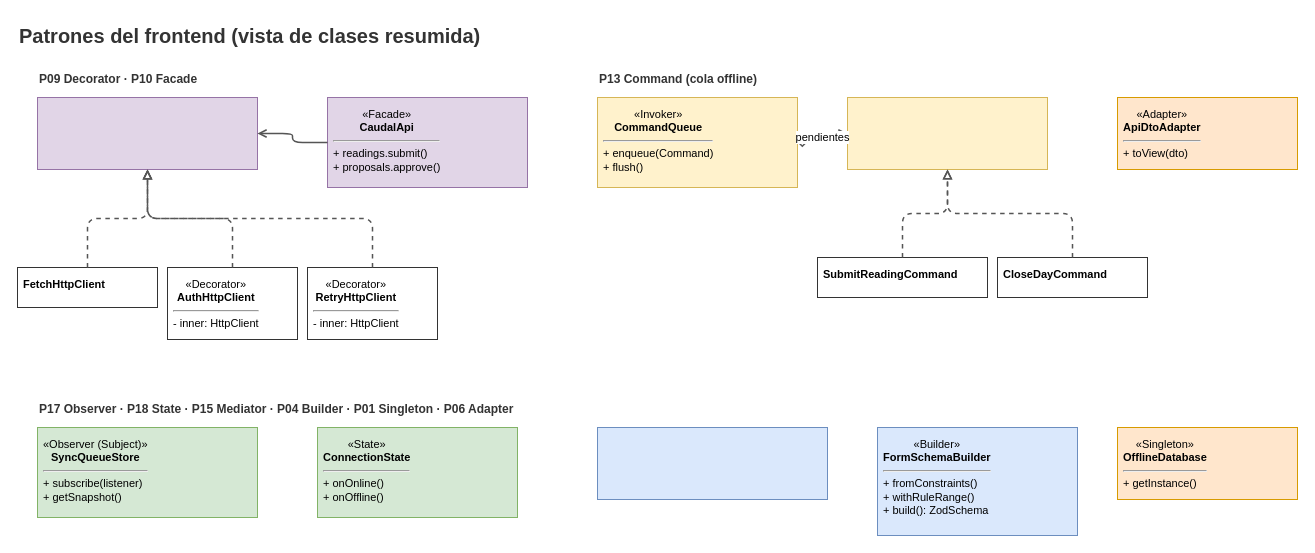
Image size: 1315x553. Some labels were removed from this diagram. Each missing label, with the centre of its shape:
"«interface» HttpClient + send(request): Promise<Response>" belongs at point (147, 133).
"«interface» OfflineCommand + execute(api)" belongs at point (947, 133).
"«Mediator» ProposalEditorMediator + notify(sender, event)" belongs at point (712, 463).
